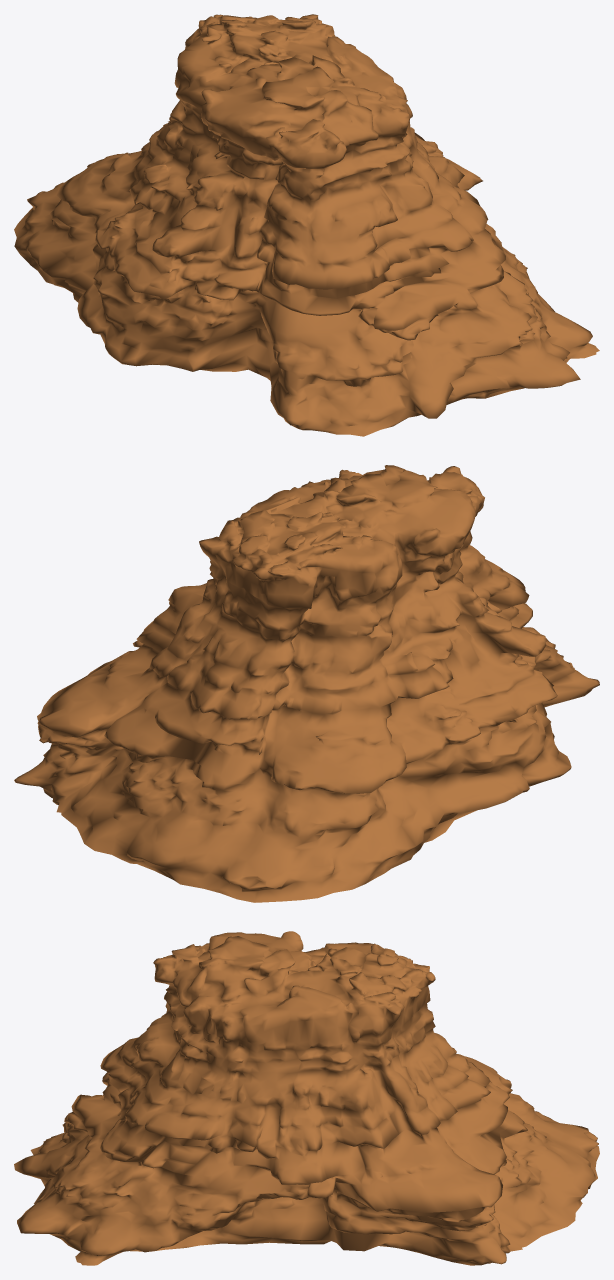
The model's file is MSH_Rocks_Cliff_31_b.FBX.
The picture shows the model from 3 angles, top to bottom: view 1: azimuth 30°, elevation 25°; view 2: azimuth 150°, elevation 25°; view 3: azimuth 270°, elevation 25°; orthographic projection. The views are drawn at different scales.
Parts seen in each view (by area): view 1: MESH_LOD0; view 2: MESH_LOD0; view 3: MESH_LOD0.
Boxes of the visible parts, left/top/right/bottom form: MESH_LOD0: left=14, top=14, right=599, bottom=436; MESH_LOD0: left=14, top=465, right=599, bottom=902; MESH_LOD0: left=14, top=931, right=599, bottom=1265.
Size of what is drawn, in the model's own units: 217 by 130 by 305.
